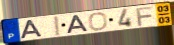4: (117, 8, 134, 29)
A: (20, 19, 44, 40), (66, 14, 90, 35)
F: (135, 5, 155, 27)
I: (54, 15, 62, 38)
O: (88, 11, 109, 31)
